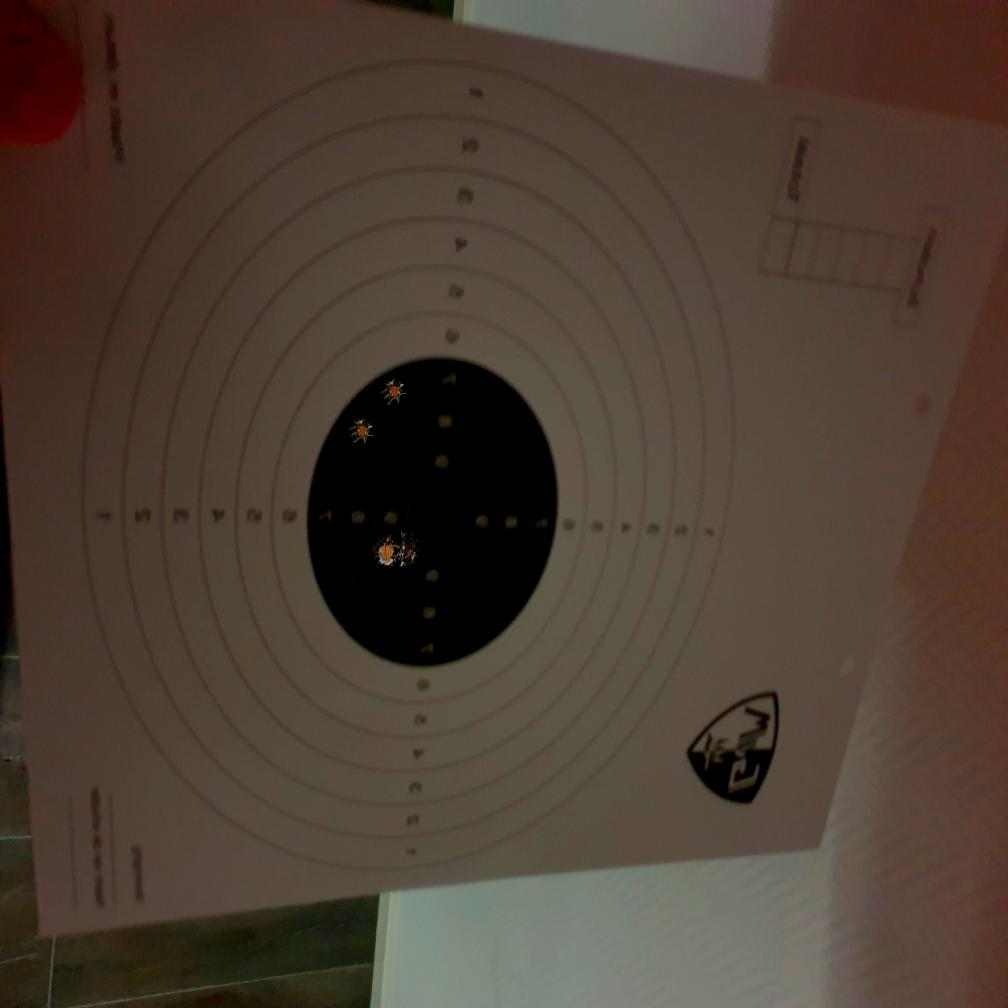10: (399, 524, 422, 568)
7: (381, 379, 407, 404)
8: (349, 418, 375, 445)
9: (374, 536, 399, 566)
Target: (79, 40, 736, 880)
black_contour: (307, 357, 559, 668)
